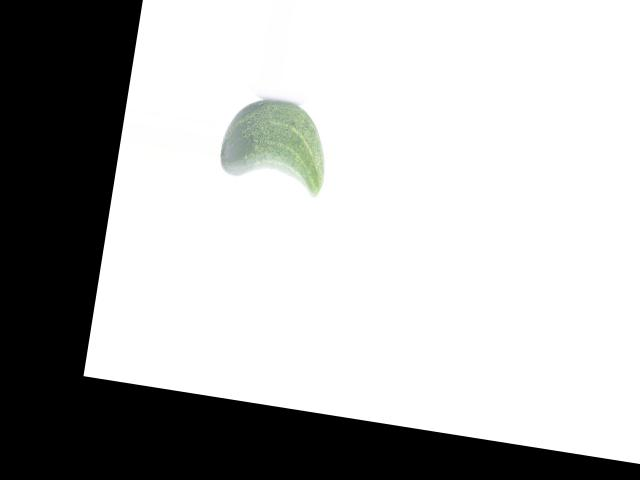cucumber: (216, 93, 335, 197)
